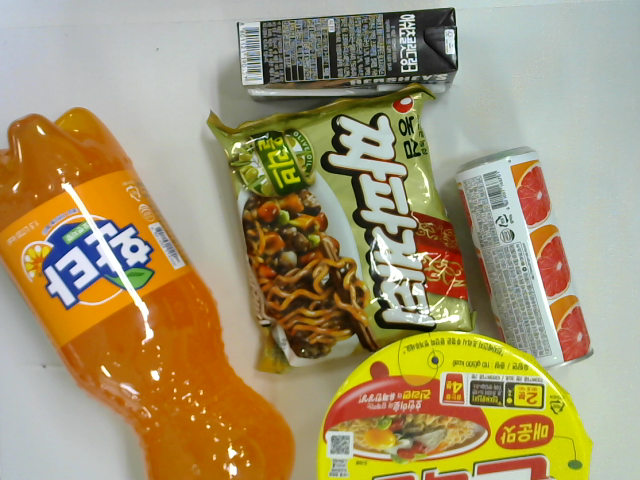Demisoda_Grapefruit_Can_250ml: (454, 147, 594, 373)
Hush_Choco_Drink: (234, 6, 460, 105)
Hwanta_Orange_1.5L: (1, 107, 296, 480)
Jinlamyeon_Hot_Taste_Large_Cup: (314, 329, 593, 480)
Olive_Chapaghetti: (206, 86, 477, 376)
